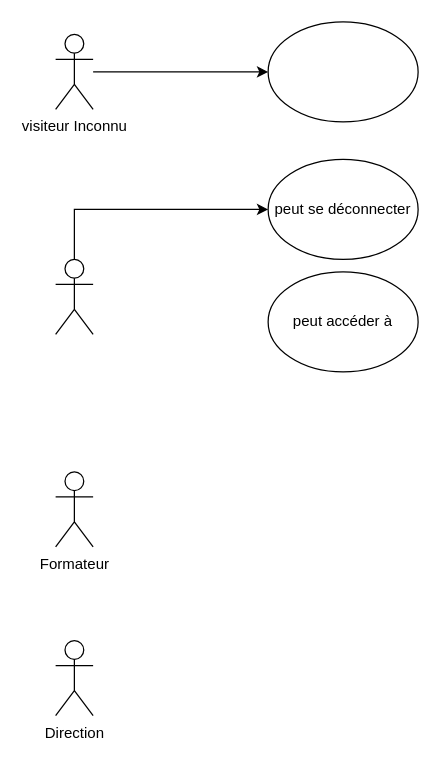
This 440x764 diagram has some shape labels left out. The shapes that lost their labels are listed below. From the top down, each one's centre as x and y in pixels, then its label:
At (342,71): "peut accéder à l’écran de connexion".
At (73,296): "Employée".
